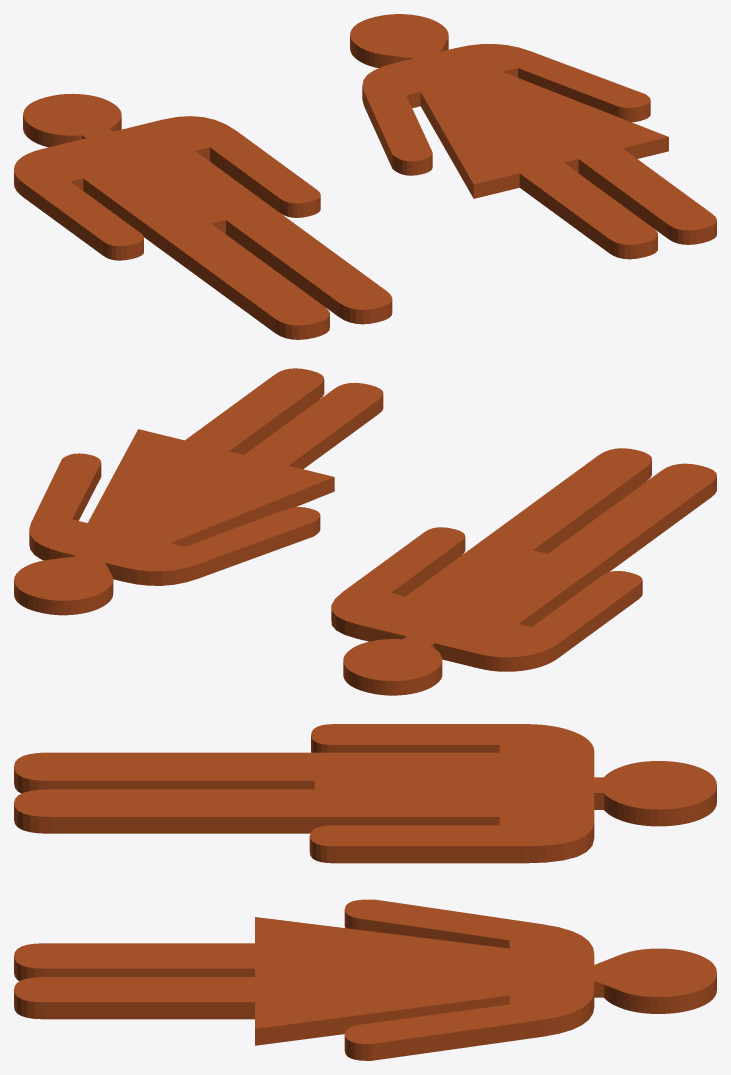
The model's file is wc_tiny.glb.
3 views of the same model, one above another, from view 1: azimuth 30°, elevation 25°; view 2: azimuth 150°, elevation 25°; view 3: azimuth 270°, elevation 25° (orthographic). The views are drawn at different scales.
Parts seen in each view (by area): view 1: wc sign.001; view 2: wc sign.001; view 3: wc sign.001.
Boxes of the visible parts, x1,y1,x2,y2 form: wc sign.001: (14, 14, 716, 339); wc sign.001: (14, 368, 716, 695); wc sign.001: (14, 724, 716, 1060).
Bounding box in the file's own units: 0.0878 × 0.00216 × 0.0815.
